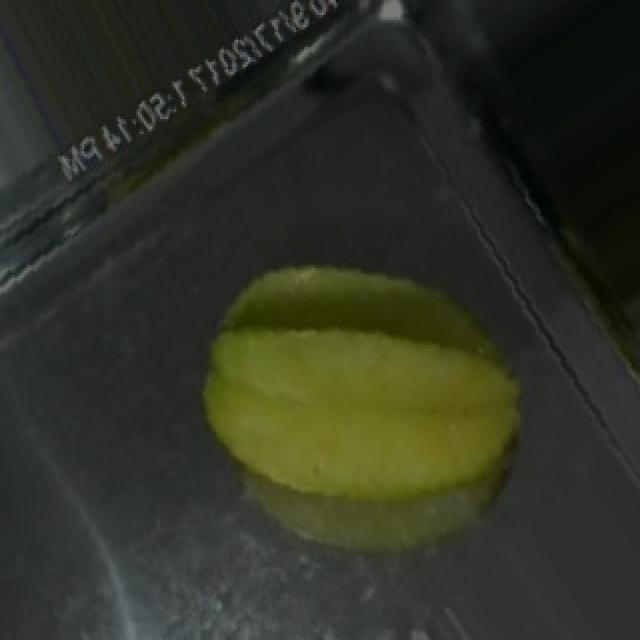fruit: (166, 129, 590, 613)
